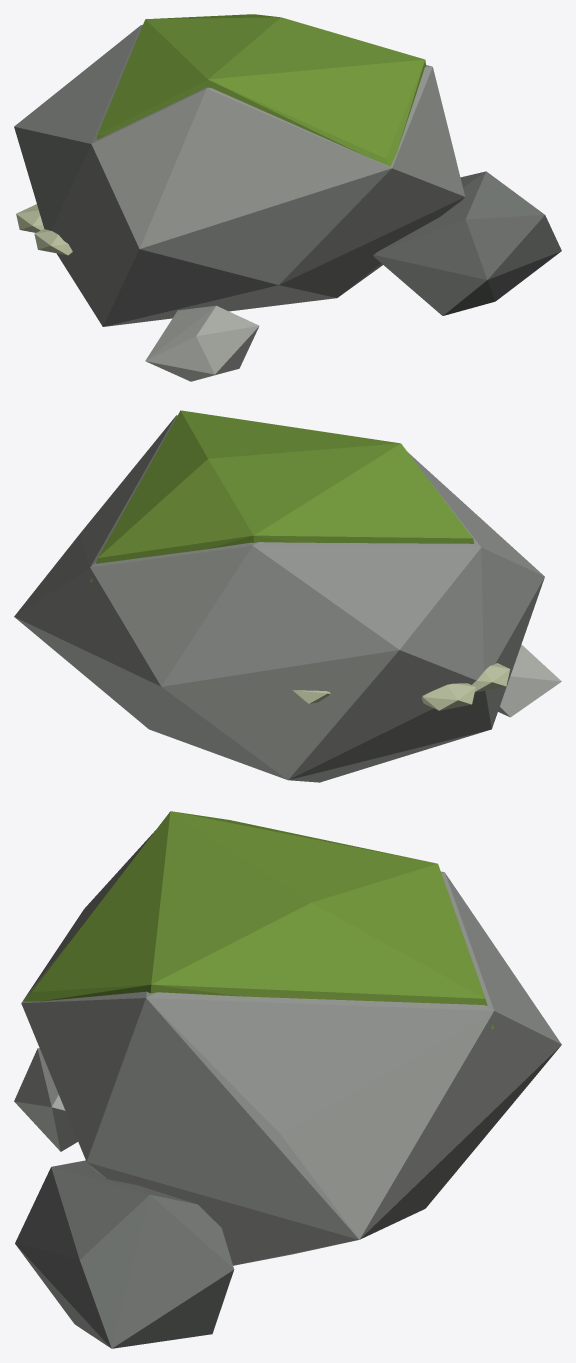
Rendered from forest_boulder_a.glb.
3 views of the same model, one above another, from view 1: azimuth 30°, elevation 25°; view 2: azimuth 150°, elevation 25°; view 3: azimuth 270°, elevation 25° (orthographic). The views are drawn at different scales.
Visible parts, largest first — view 1: forest_boulder_a; view 2: forest_boulder_a; view 3: forest_boulder_a.
Boxes of the visible parts, left/top/right/bottom form: forest_boulder_a: left=14, top=14, right=561, bottom=381; forest_boulder_a: left=14, top=410, right=561, bottom=782; forest_boulder_a: left=14, top=811, right=561, bottom=1348.
Size of the model in its own units: 3.41 by 1.8 by 2.58.
